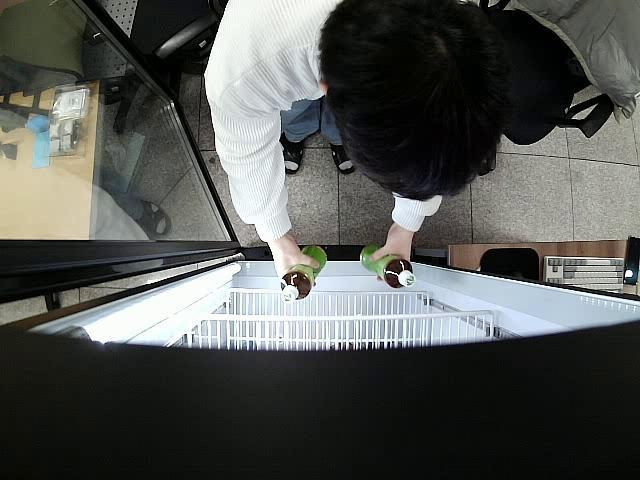19_17cha: (278, 245, 328, 301), (359, 245, 415, 290)
